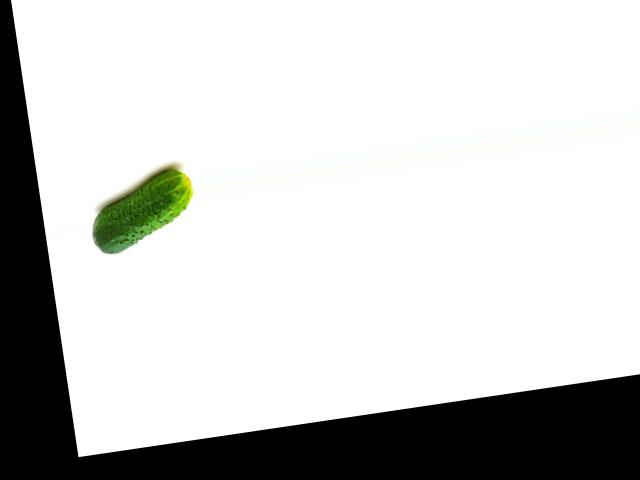cucumber: (84, 166, 200, 256)
